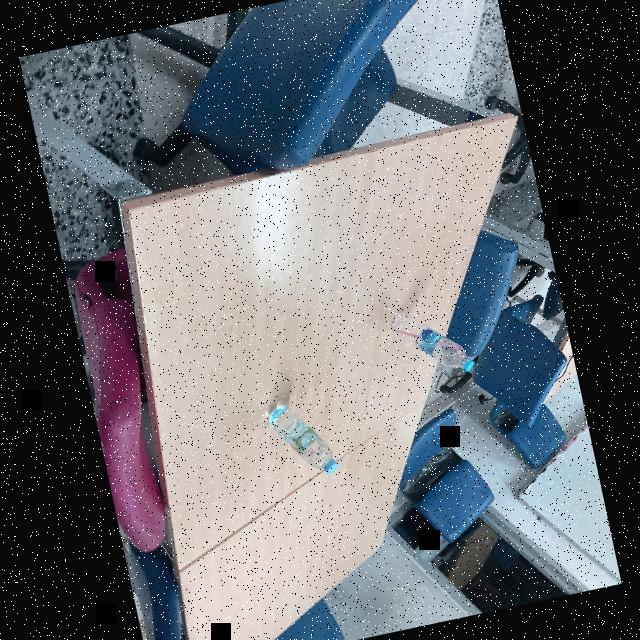plastic_bottle: (386, 294, 476, 389), (260, 390, 340, 486)
plastic_bottle_cap: (322, 456, 339, 476), (460, 358, 476, 373)
straw: (390, 312, 469, 378)
